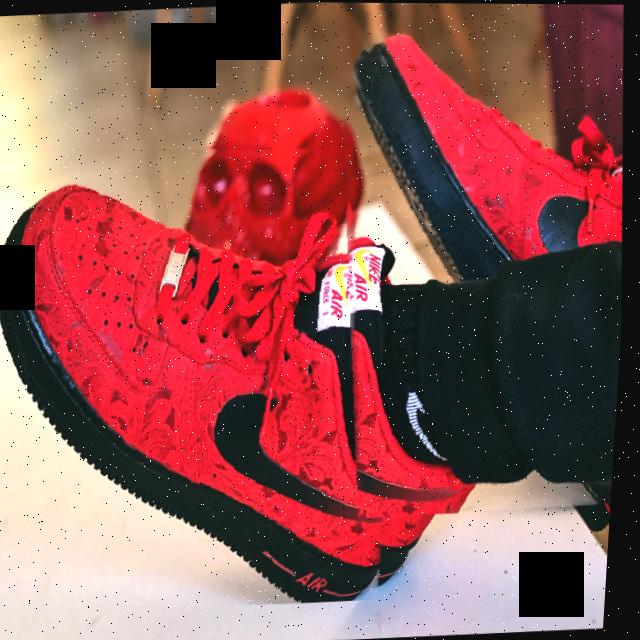shoe: (0, 128, 440, 619), (314, 2, 640, 521)
